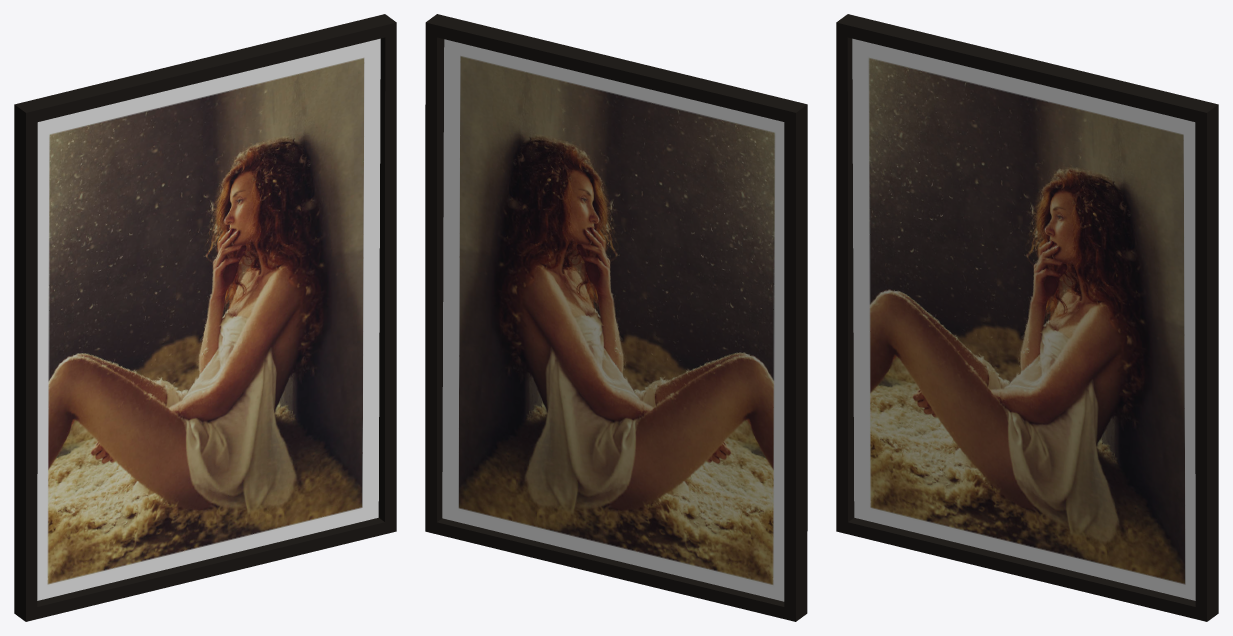
File: P655156_kvinna_i_fjaderregn_30x40_WEBB.glb
3 views of the same model, side by side, from view 1: azimuth 30°, elevation 25°; view 2: azimuth 150°, elevation 25°; view 3: azimuth 330°, elevation 25° (orthographic).
Parts seen in each view (by area): view 1: P655208_vintervass_30x40_WEBB, Frame2; view 2: P655208_vintervass_30x40_WEBB, Frame2; view 3: P655208_vintervass_30x40_WEBB, Frame2.
Boxes of the visible parts, x1,y1,x2,y2 form: P655208_vintervass_30x40_WEBB: (37,38,380,600); Frame2: (14,14,396,621); P655208_vintervass_30x40_WEBB: (442,39,784,601); Frame2: (425,14,807,621); P655208_vintervass_30x40_WEBB: (852,38,1195,600); Frame2: (836,14,1218,621).
Size of the model in its own units: 0.2576 by 0.3381 by 0.0143.
2 materials, 2 textured.
